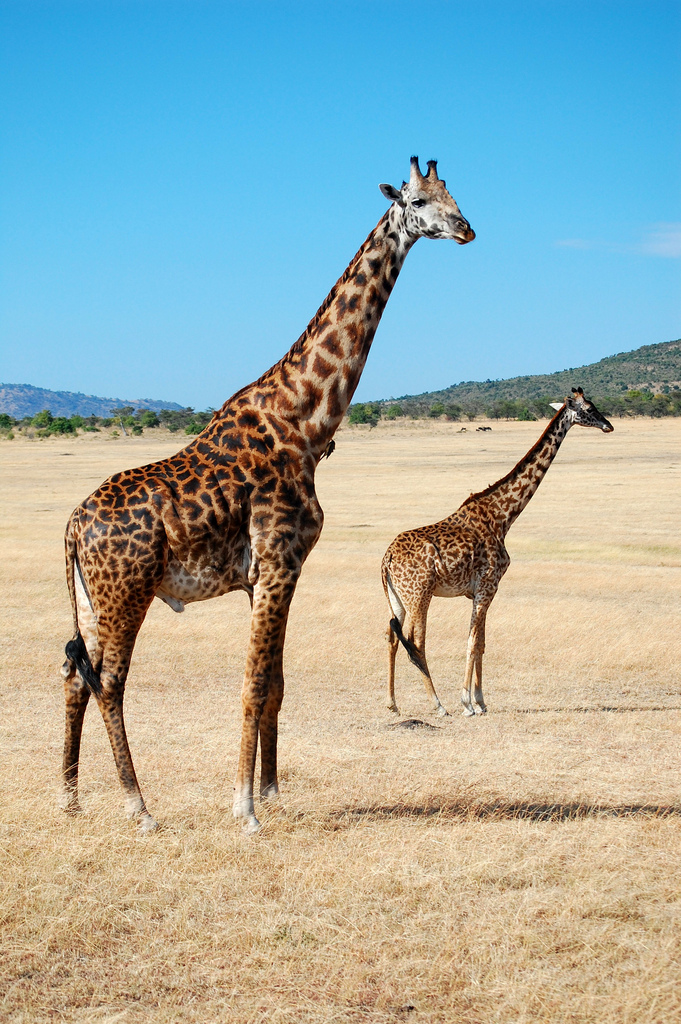giraffe: (41, 120, 535, 802), (358, 354, 651, 731)
